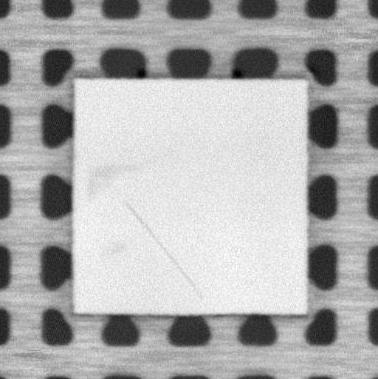DIE_CRACK: (125, 201, 204, 299)
